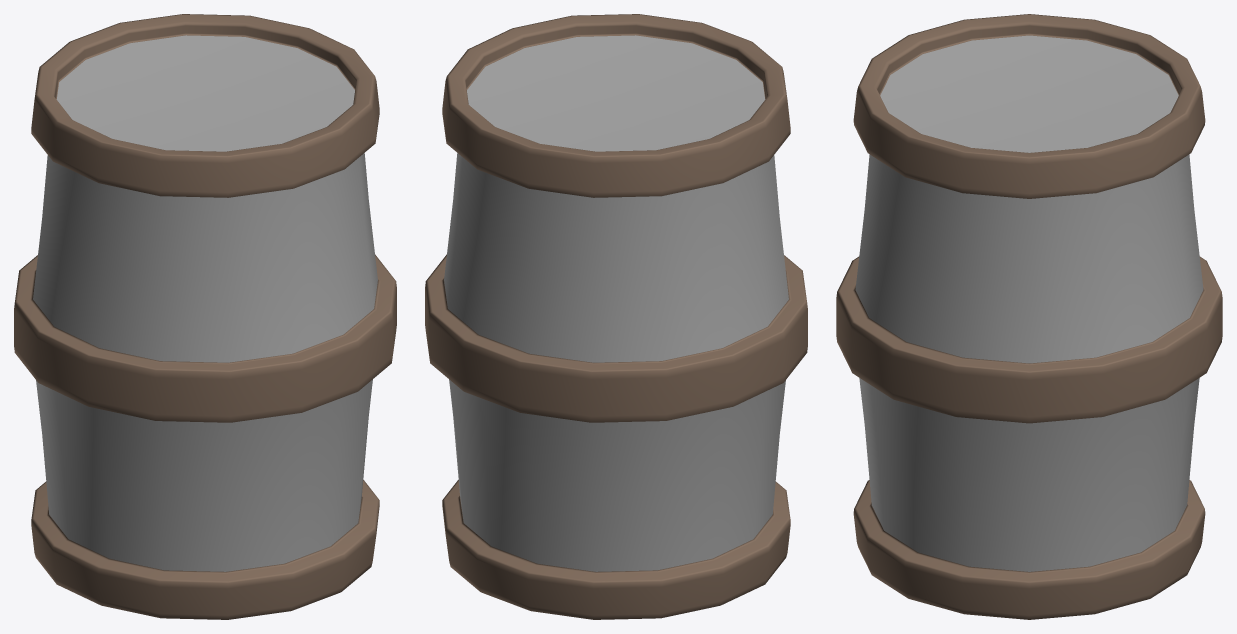
The model's file is SM_Barrel.fbx.
The picture shows the model from 3 angles, left to right: view 1: azimuth 30°, elevation 25°; view 2: azimuth 150°, elevation 25°; view 3: azimuth 270°, elevation 25°; orthographic projection.
Parts seen in each view (by area): view 1: SM_Barrel; view 2: SM_Barrel; view 3: SM_Barrel.
Part boxes in pixels (box(x1,y1,x2,y2)): SM_Barrel: box(14, 14, 396, 619); SM_Barrel: box(425, 14, 807, 619); SM_Barrel: box(836, 14, 1222, 619).
Bounding box in the file's own units: 58.85 × 77.66 × 58.85.
